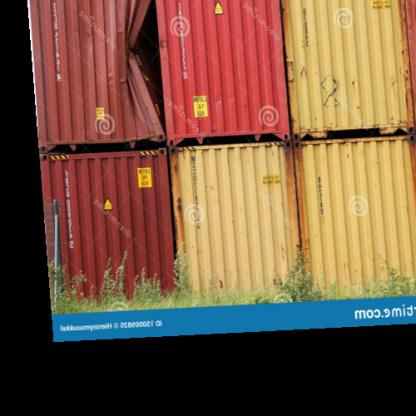Damage: (114, 6, 188, 138)
